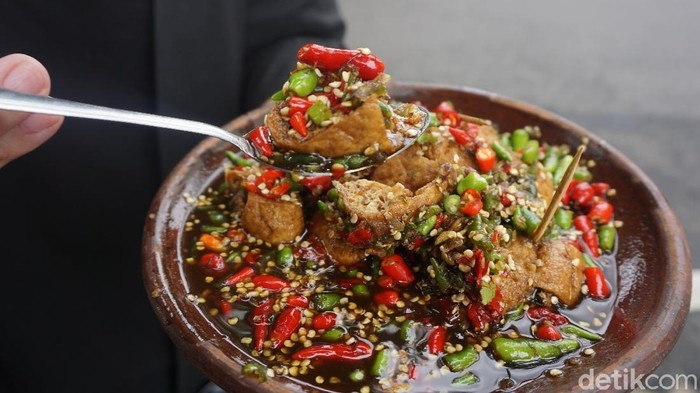tahu_gejrot: (181, 41, 628, 373)
